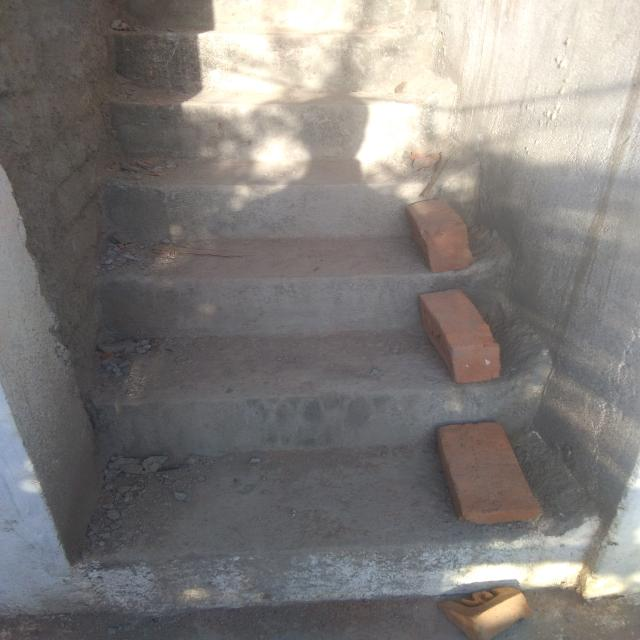Stairs: (88, 85, 411, 453)
